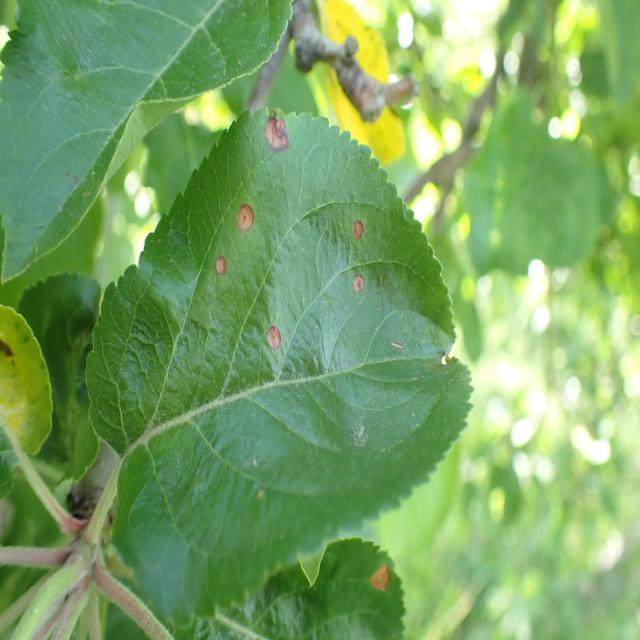Black Rot: (223, 182, 270, 249), (364, 548, 401, 603), (259, 296, 283, 371), (345, 197, 370, 261), (262, 109, 294, 157), (195, 246, 235, 280), (343, 264, 373, 309)
